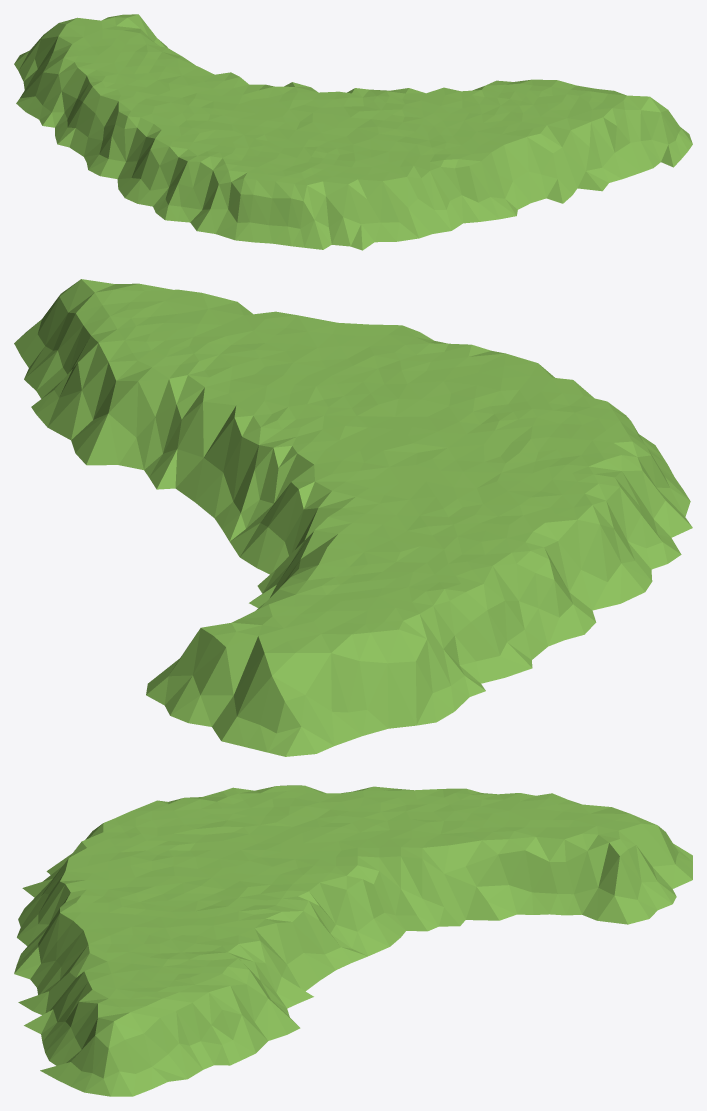
The model's file is MT_Island_L_a_02_LOD.fbx.
3 views of the same model, one above another, from view 1: azimuth 30°, elevation 25°; view 2: azimuth 150°, elevation 25°; view 3: azimuth 270°, elevation 25° (orthographic). The views are drawn at different scales.
Parts seen in each view (by area): view 1: MT_Island_L_a_02_LOD0; view 2: MT_Island_L_a_02_LOD0; view 3: MT_Island_L_a_02_LOD0.
Boxes of the visible parts, x1,y1,x2,y2 form: MT_Island_L_a_02_LOD0: [14, 14, 692, 250]; MT_Island_L_a_02_LOD0: [14, 279, 692, 756]; MT_Island_L_a_02_LOD0: [14, 785, 692, 1096].
Size of what is drawn, in the model's own units: 9573 by 871 by 9805.
